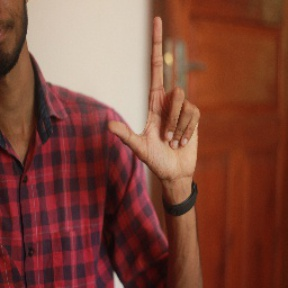L: (108, 16, 203, 176)
